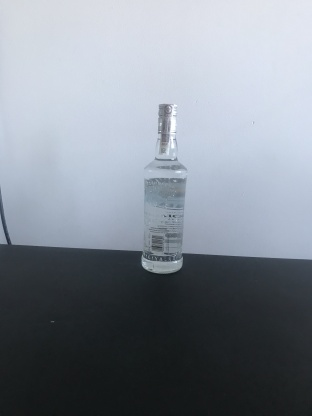nakretka: (156, 100, 179, 136)
